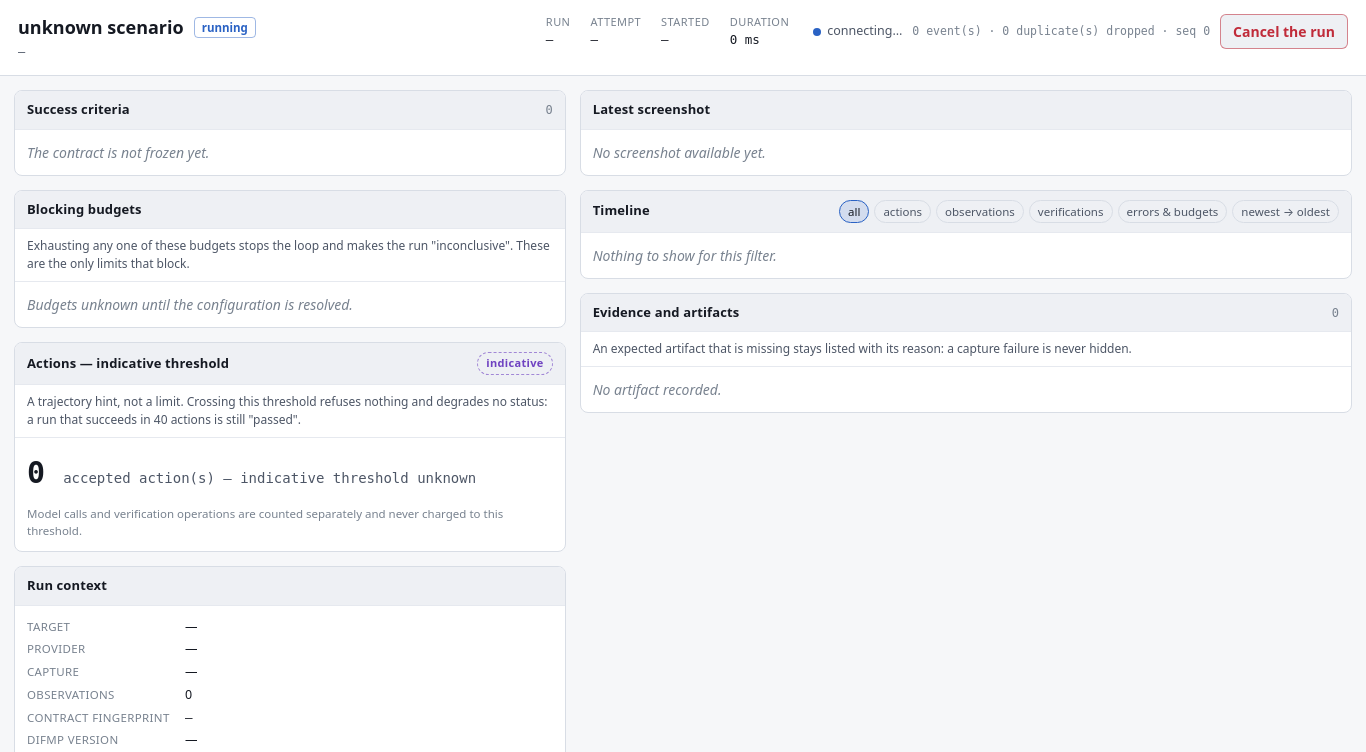
Test case: App — cancellation › posts to the cancel endpoint and reports the request
This screenshot has width=1366, height=752.
Click the button with test id "cancel-button" at (1284, 32), box [1220, 14, 1348, 49]
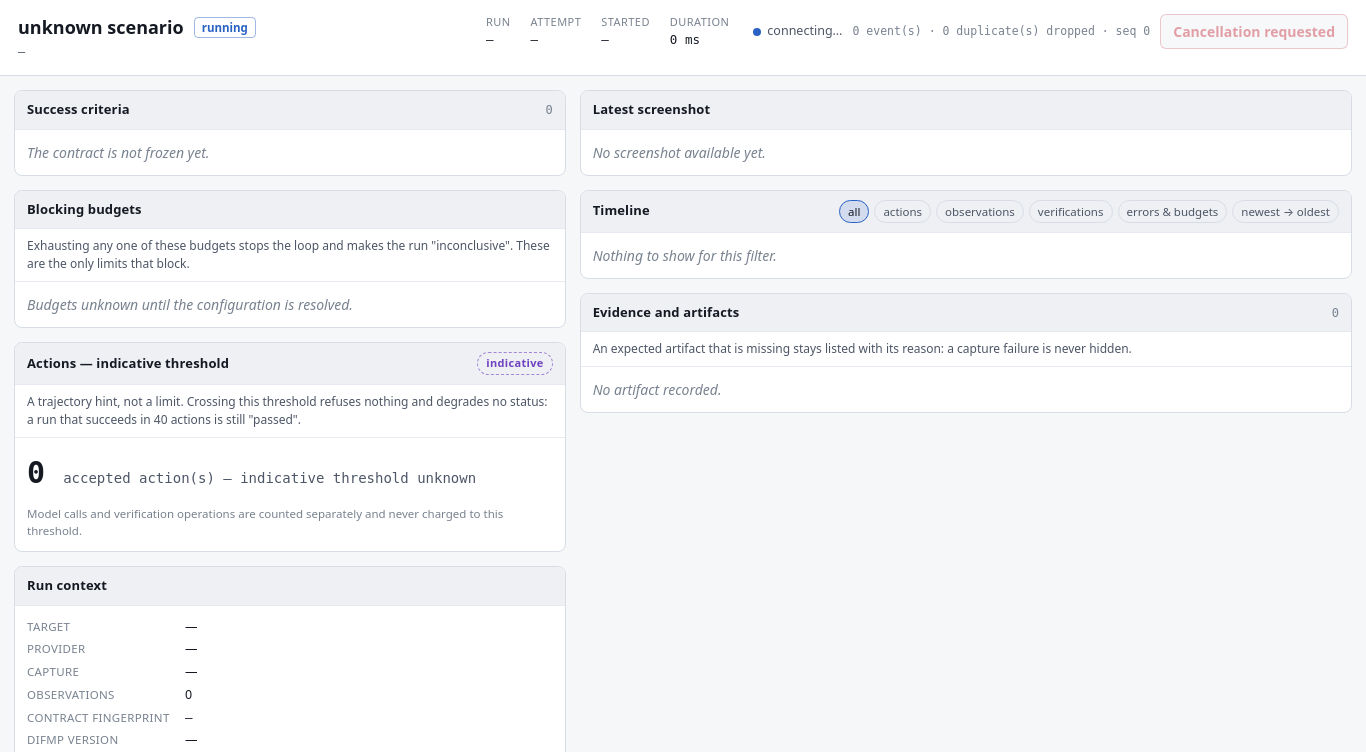
Expected: the button with test id "cancel-button" reads "Cancellation requested", [1160, 14, 1348, 49]
Expected: the button with test id "cancel-button" is disabled, [1160, 14, 1348, 49]
